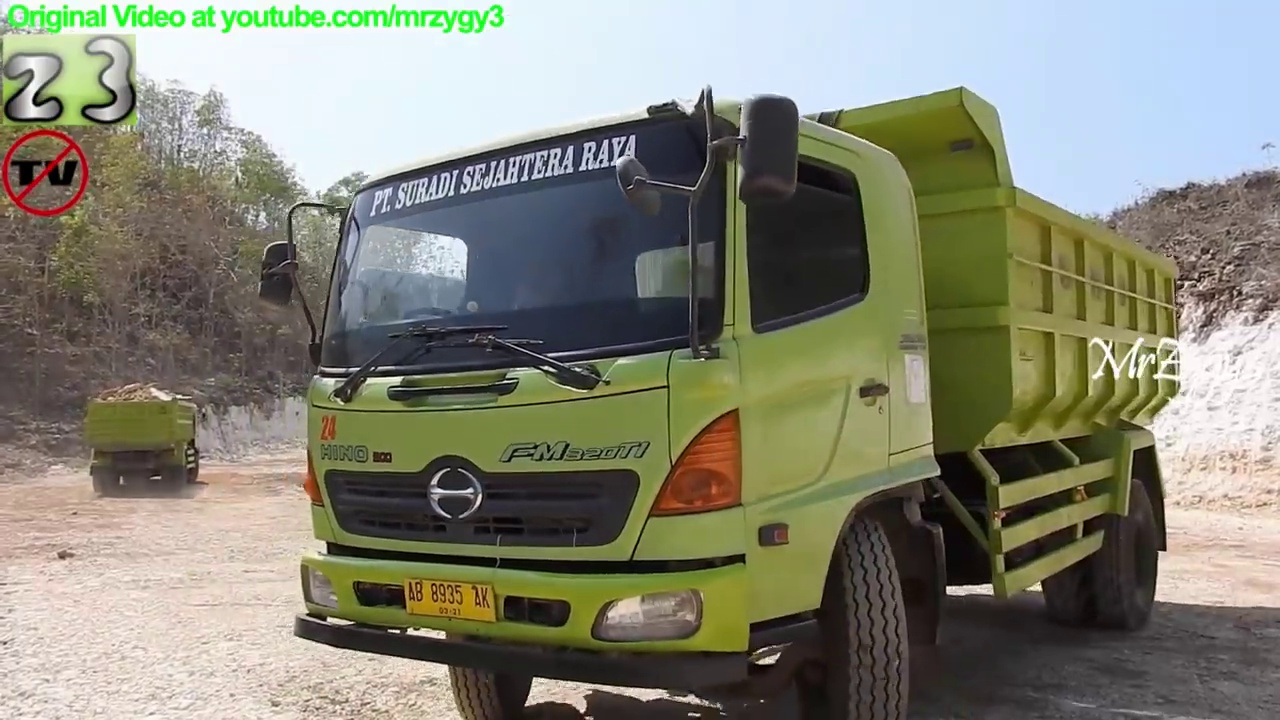truck: (253, 78, 1193, 720), (79, 390, 212, 499)
